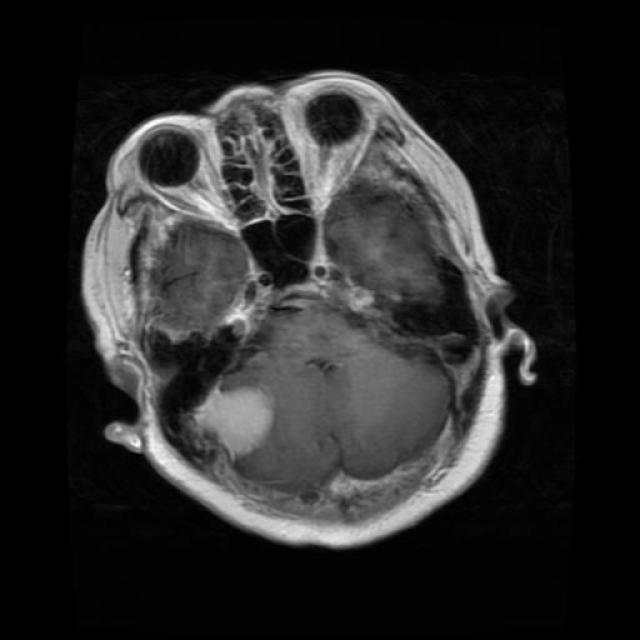Meningioma: (198, 386, 274, 458)
